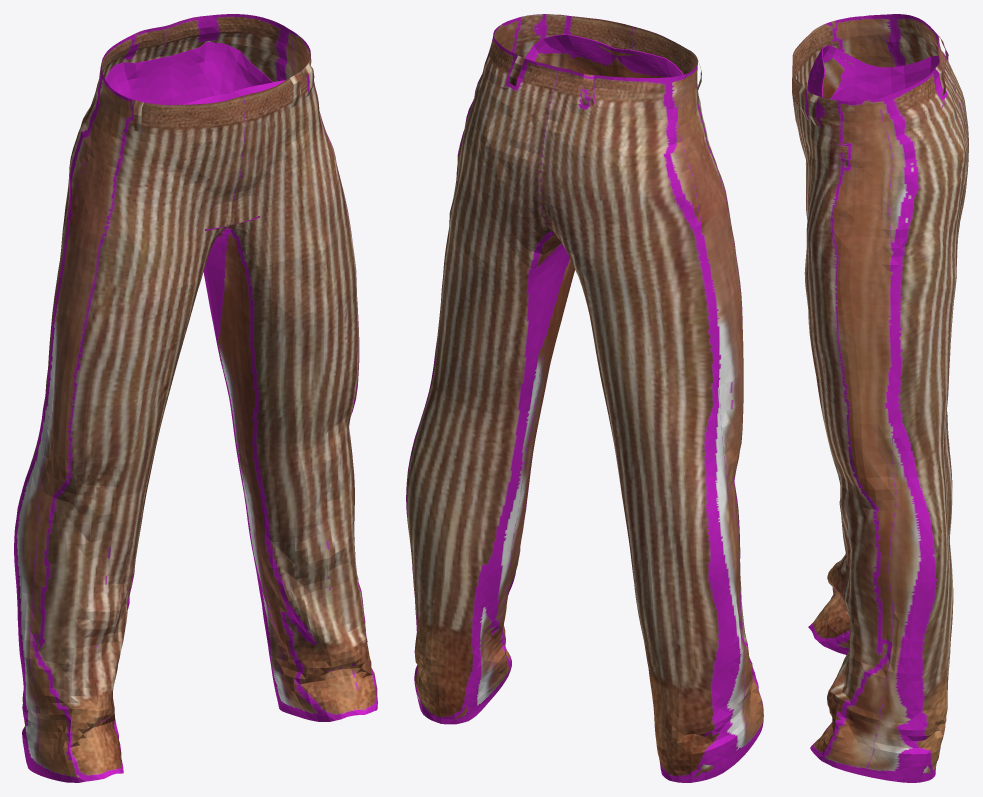
3 views of the same model, side by side, from view 1: azimuth 30°, elevation 25°; view 2: azimuth 150°, elevation 25°; view 3: azimuth 270°, elevation 25° (orthographic). The views are drawn at different scales.
Size of the model in its own units: 0.5019 by 1.02 by 0.2446.
1 material, 1 textured.
